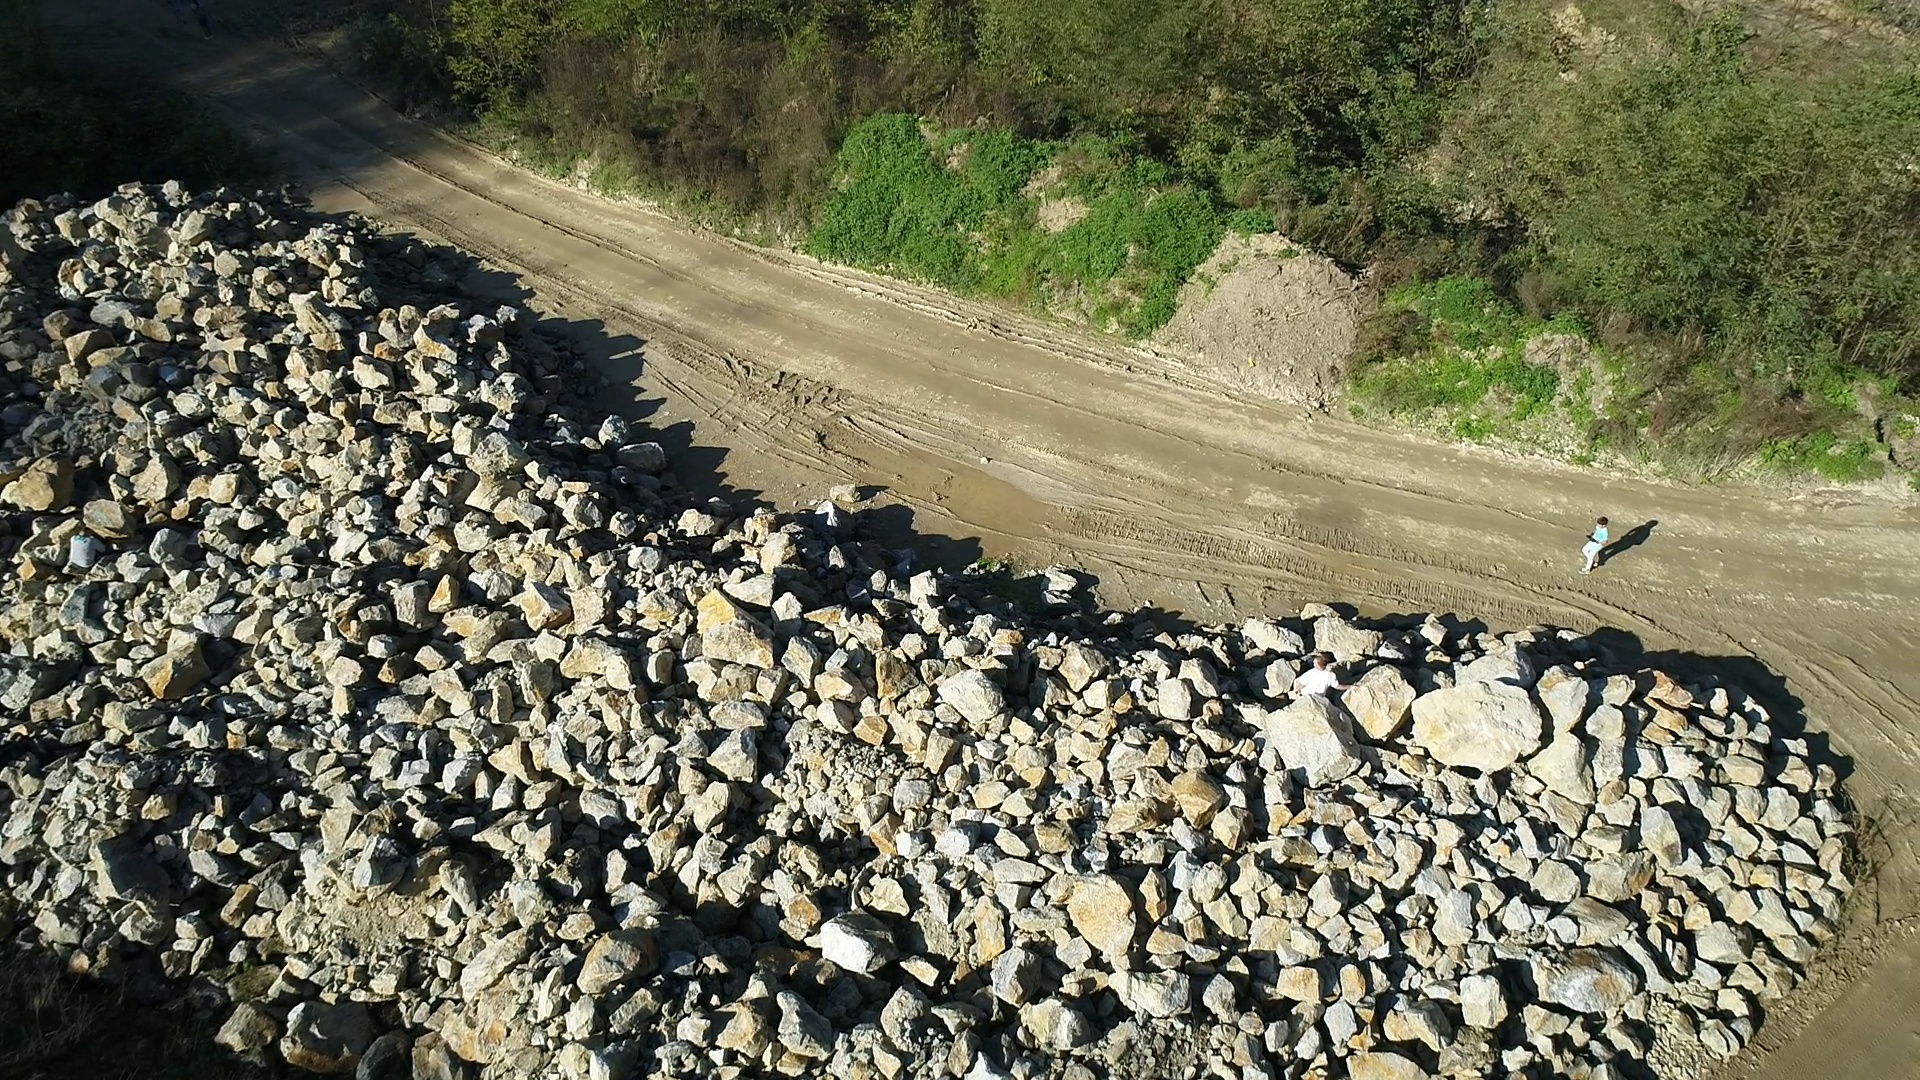person: (1297, 655, 1350, 706), (1577, 514, 1609, 576), (67, 527, 106, 573)
